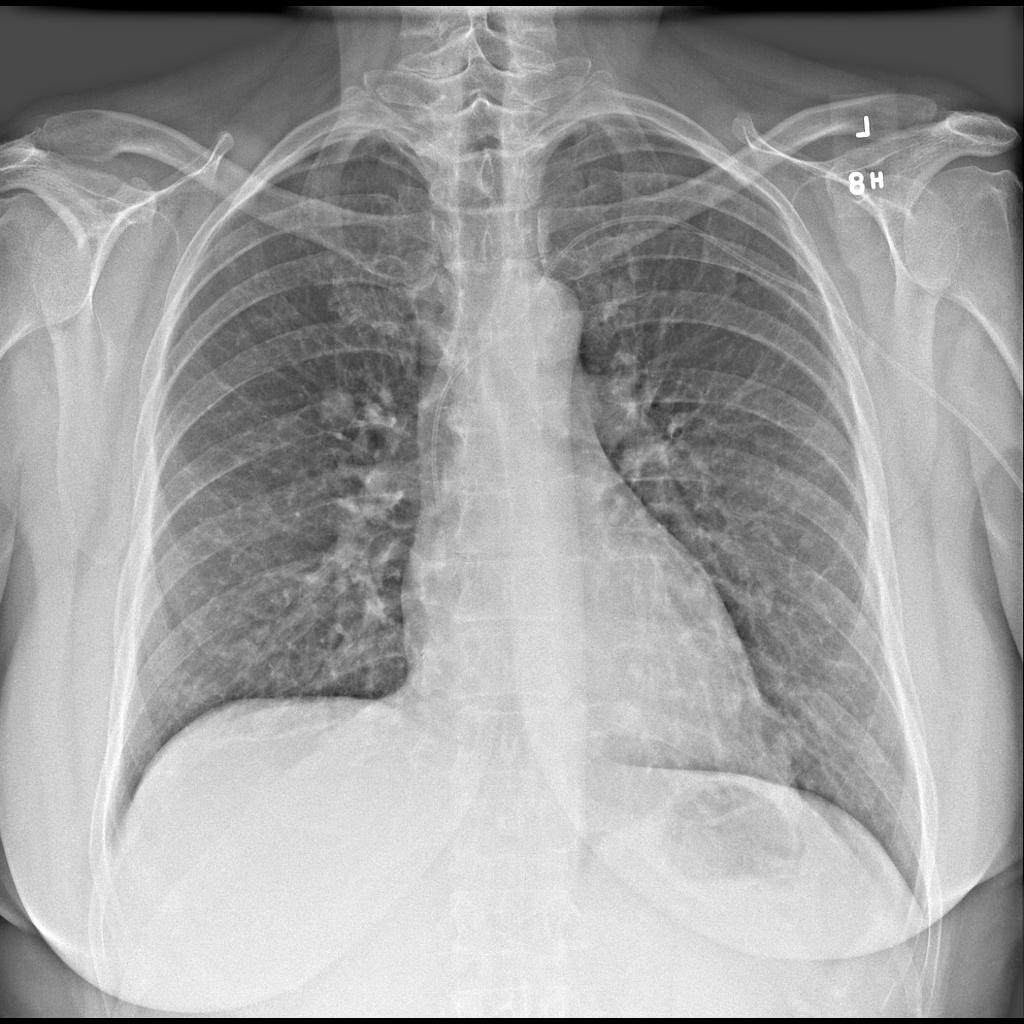Nodule: (311, 386, 360, 436)
